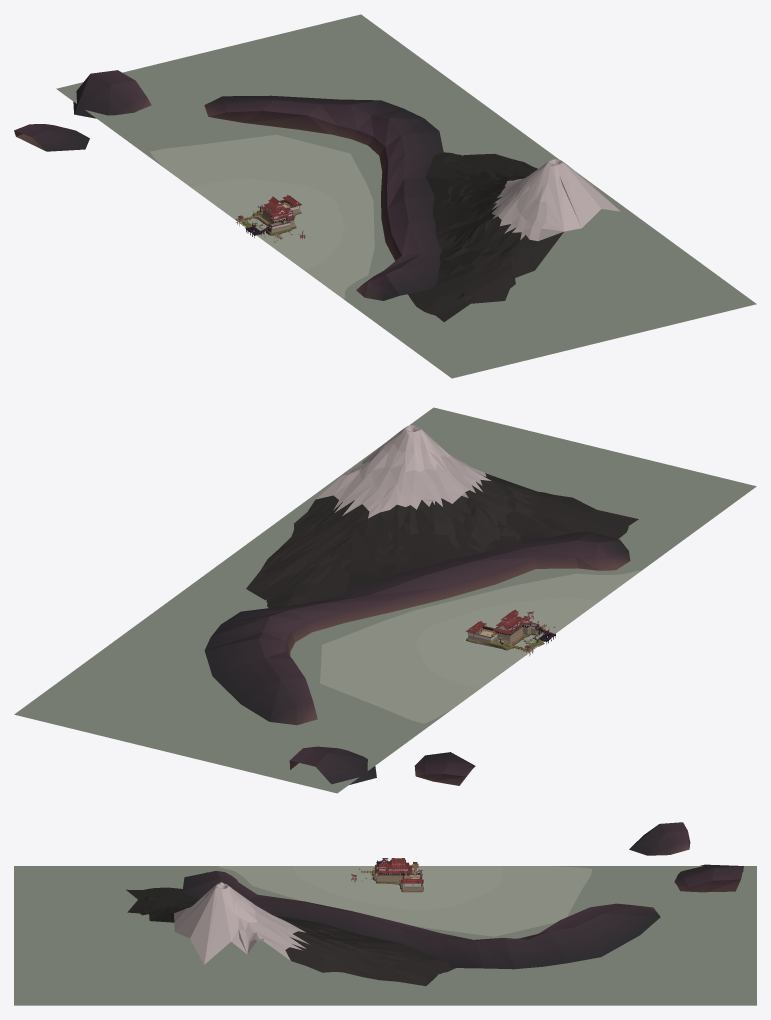
Rendered from narrowArchAlt.glb.
The picture shows the model from 3 angles, top to bottom: view 1: azimuth 30°, elevation 25°; view 2: azimuth 150°, elevation 25°; view 3: azimuth 270°, elevation 25°; orthographic projection. The views are drawn at different scales.
Parts seen in each view (by area): view 1: water, Cube.1306, FujiMountain; view 2: water, FujiMountain, Cube.1306; view 3: water, Cube.1306, FujiMountain.
Part boxes in pixels (x1=…): water: x1=56, y1=14, x2=756, y2=378; Cube.1306: x1=14, y1=70, x2=443, y2=300; FujiMountain: x1=408, y1=152, x2=620, y2=321; water: x1=14, y1=407, x2=756, y2=793; FujiMountain: x1=246, y1=424, x2=638, y2=607; Cube.1306: x1=204, y1=531, x2=630, y2=785; water: x1=14, y1=866, x2=756, y2=1005; Cube.1306: x1=182, y1=822, x2=743, y2=969; FujiMountain: x1=126, y1=882, x2=455, y2=986.
Size of what is drawn, in the model's own units: 551 by 125 by 978.
